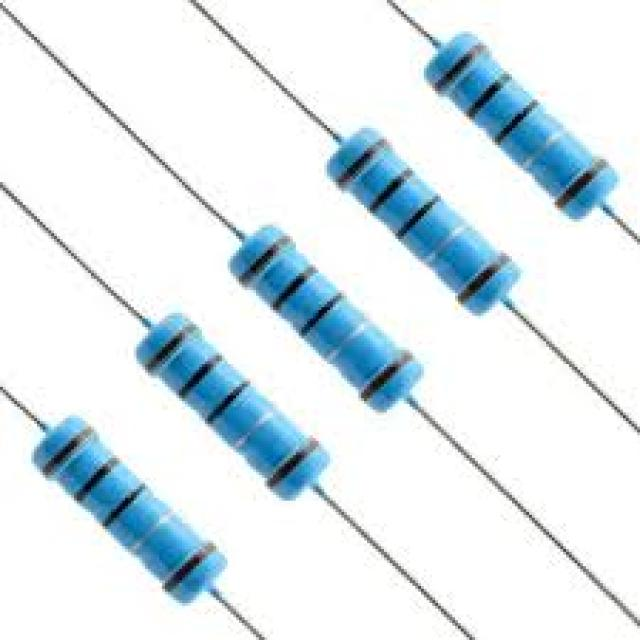Resistor: (30, 413, 228, 606), (136, 314, 329, 501), (230, 226, 421, 411), (429, 32, 620, 216), (331, 125, 515, 312)
